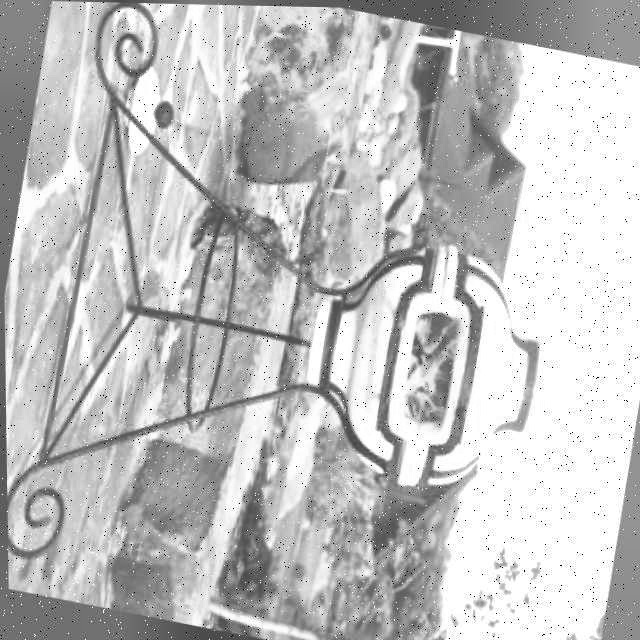Fire: (385, 303, 462, 433)
